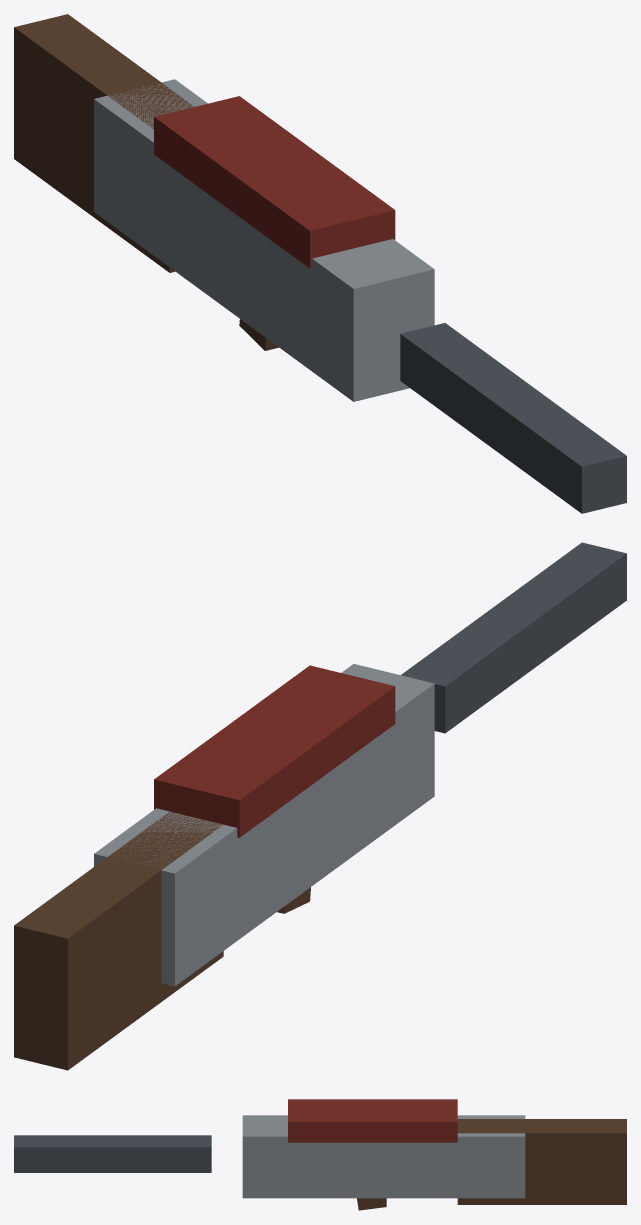
3 renders of one model, top to bottom at view 1: azimuth 30°, elevation 25°; view 2: azimuth 150°, elevation 25°; view 3: azimuth 270°, elevation 25°, orthographic. The views are drawn at different scales.
Visible parts, largest first — view 1: garde_weapon_laser_carbine; view 2: garde_weapon_laser_carbine; view 3: garde_weapon_laser_carbine.
Boxes of the visible parts, box(x1,y1,x2,y2) form: garde_weapon_laser_carbine: box(14, 14, 626, 513); garde_weapon_laser_carbine: box(14, 542, 626, 1070); garde_weapon_laser_carbine: box(14, 1099, 626, 1210).
Size of the model in its own units: 0.095 by 0.1835 by 1.09.
